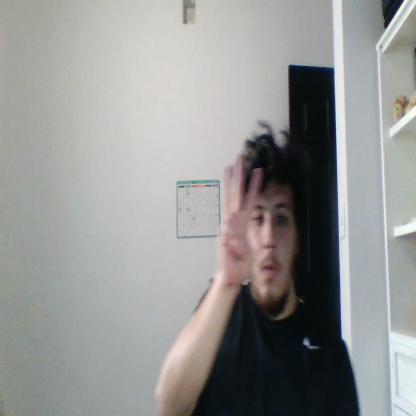W: (218, 156, 261, 281)
